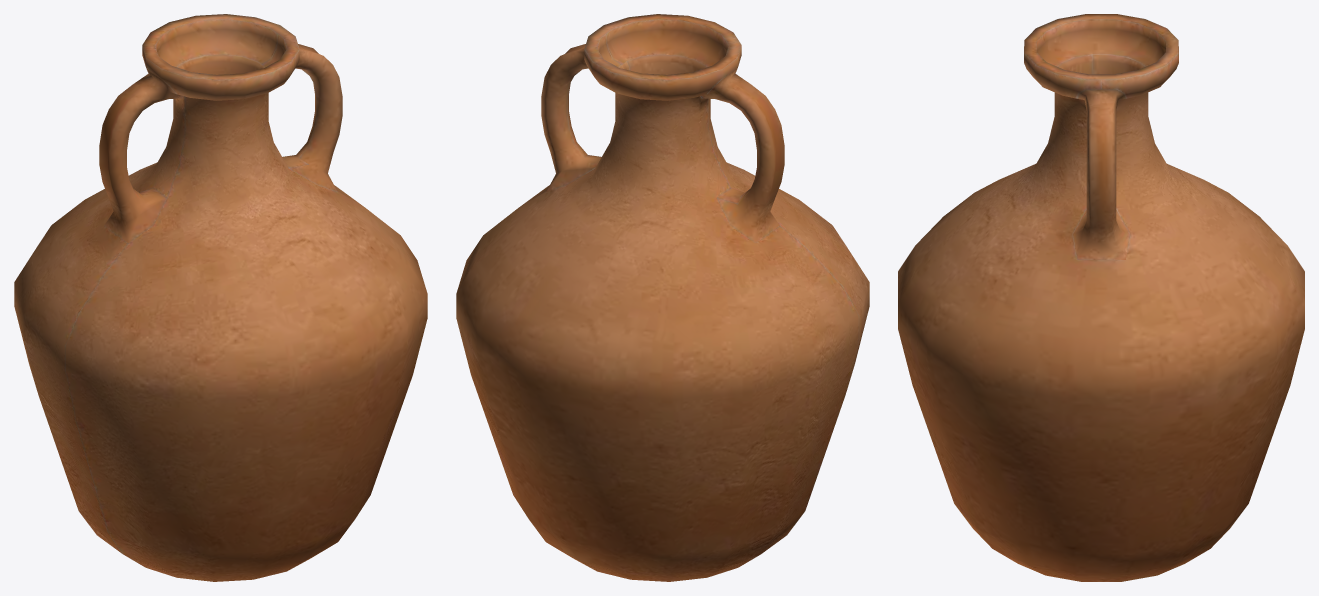
Rendered from p_amphora_byz.glb.
3 views of the same model, side by side, from view 1: azimuth 30°, elevation 25°; view 2: azimuth 150°, elevation 25°; view 3: azimuth 270°, elevation 25° (orthographic).
Visible parts, largest first — view 1: Circle.001; view 2: Circle.001; view 3: Circle.001.
Part boxes in pixels (x1,y1,x2,y2): Circle.001: (14,14,427,581); Circle.001: (456,14,869,581); Circle.001: (898,14,1304,581).
Bounding box in the file's own units: 27.56 × 38.01 × 27.54.
Materials: 1 (1 with a texture image).
